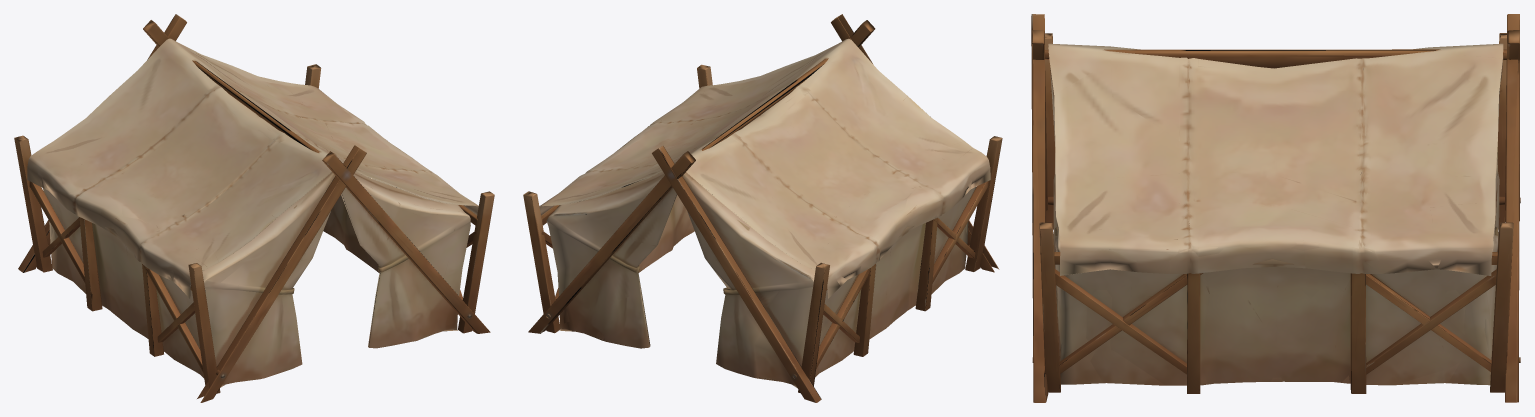
File: computer-tent.glb
3 renders of one model, left to right at view 1: azimuth 30°, elevation 25°; view 2: azimuth 150°, elevation 25°; view 3: azimuth 270°, elevation 25°, orthographic. The views are drawn at different scales.
Visible parts, largest first — view 1: geometry_0; view 2: geometry_0; view 3: geometry_0.
Boxes of the visible parts, box(x1,y1,x2,y2) form: geometry_0: box(14, 14, 494, 402); geometry_0: box(523, 14, 1002, 402); geometry_0: box(1031, 14, 1520, 402).
Size of the model in its own units: 0.8896 by 0.6094 by 0.9395.
1 material, 1 textured.
